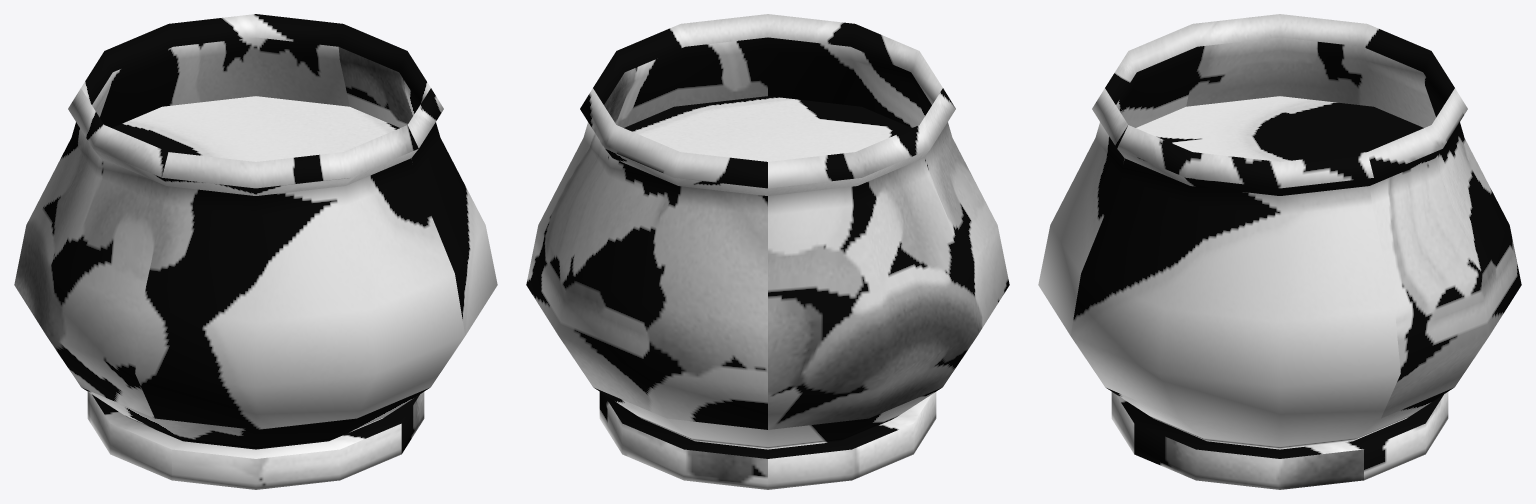
The model's file is SmallPot.fbx.
The picture shows the model from 3 angles, left to right: view 1: azimuth 30°, elevation 25°; view 2: azimuth 150°, elevation 25°; view 3: azimuth 270°, elevation 25°; orthographic projection.
Visible parts, largest first — view 1: pot2, pot2.001; view 2: pot2, pot2.001; view 3: pot2, pot2.001.
Boxes of the visible parts, box(x1,y1,x2,y2) form: pot2: box(14, 14, 497, 489); pot2.001: box(112, 96, 399, 161); pot2: box(526, 14, 1009, 489); pot2.001: box(624, 96, 911, 161); pot2: box(1038, 14, 1521, 489); pot2.001: box(1136, 96, 1423, 161).
Size of the model in its own units: 119 by 90.13 by 119.
